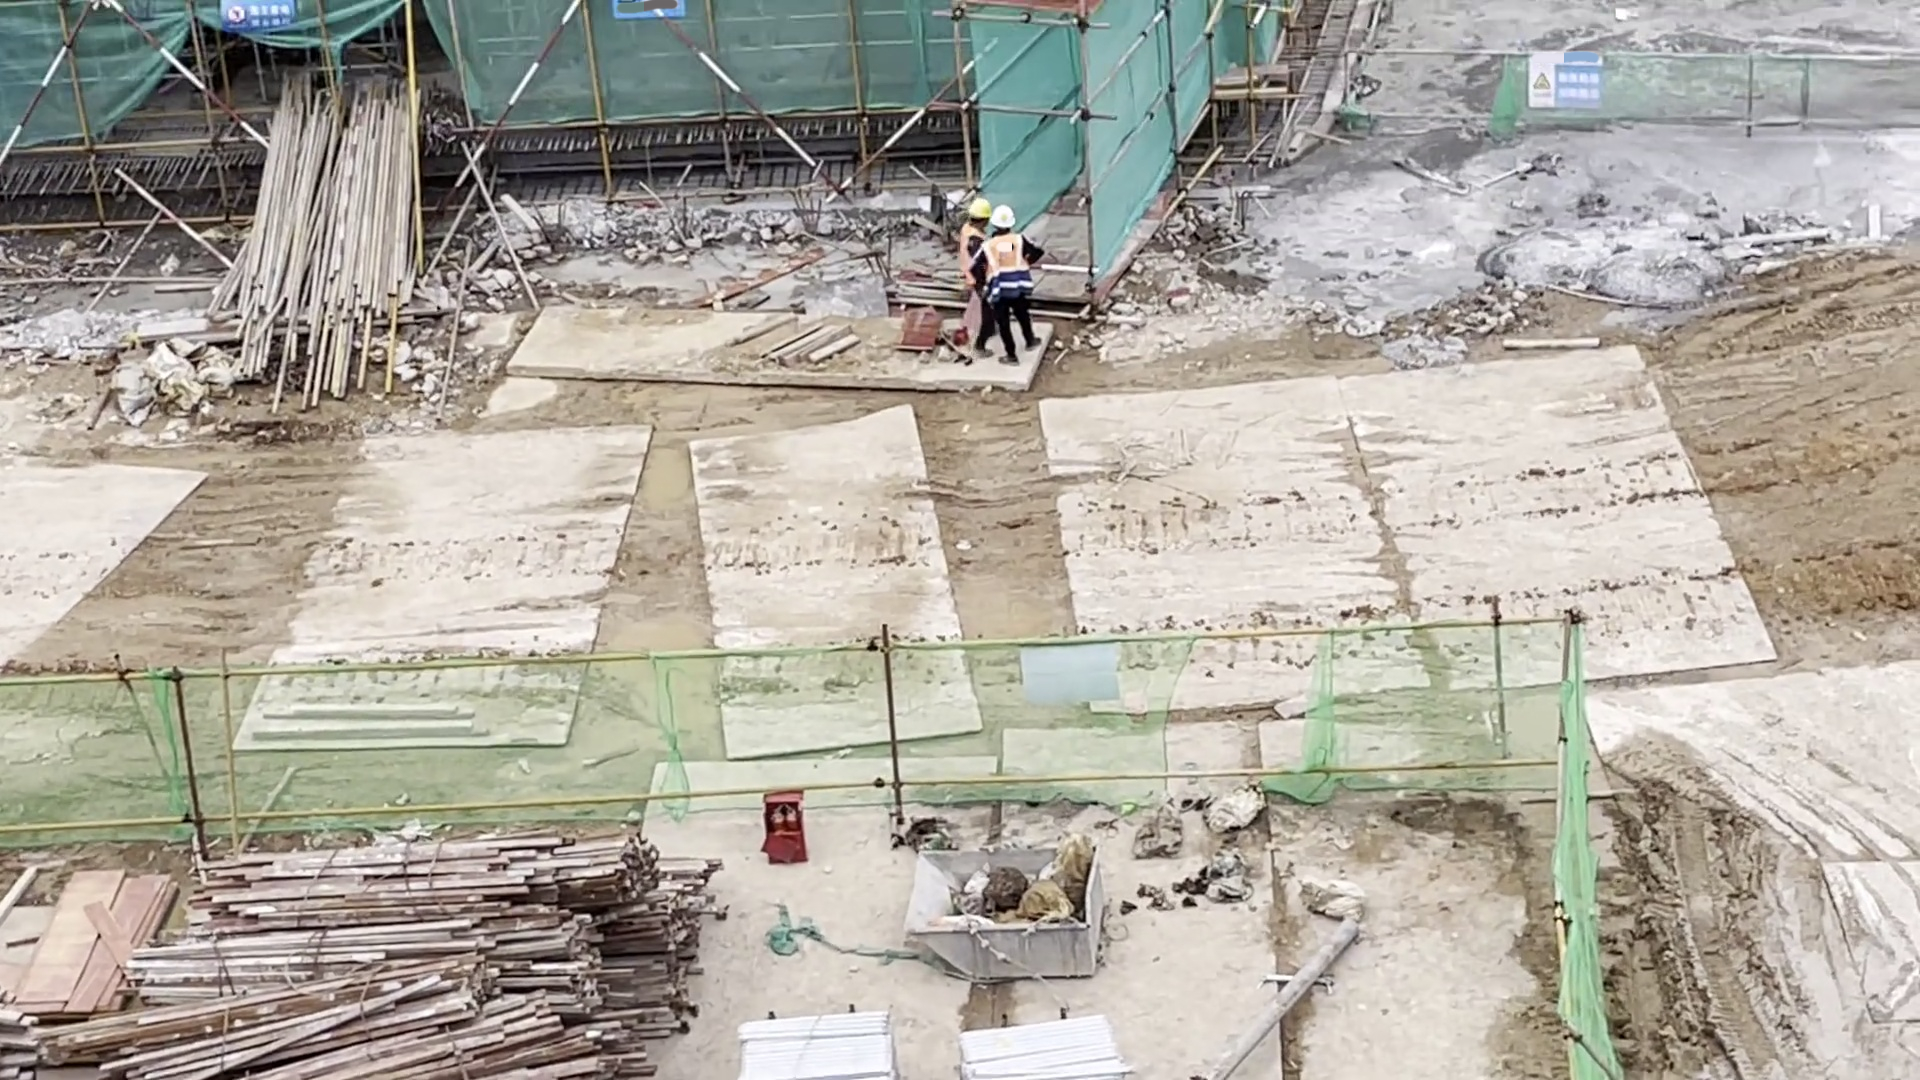board: (4, 853, 174, 1025)
helmet: (987, 205, 1019, 227), (966, 195, 986, 211)
hopper: (907, 836, 1106, 985)
person: (987, 206, 1044, 360), (960, 196, 987, 346)
scaffold: (951, 1012, 1126, 1080), (739, 1009, 896, 1080)
vest: (985, 240, 1039, 311), (957, 223, 983, 296)
wood: (186, 833, 711, 1080), (257, 84, 414, 349)
